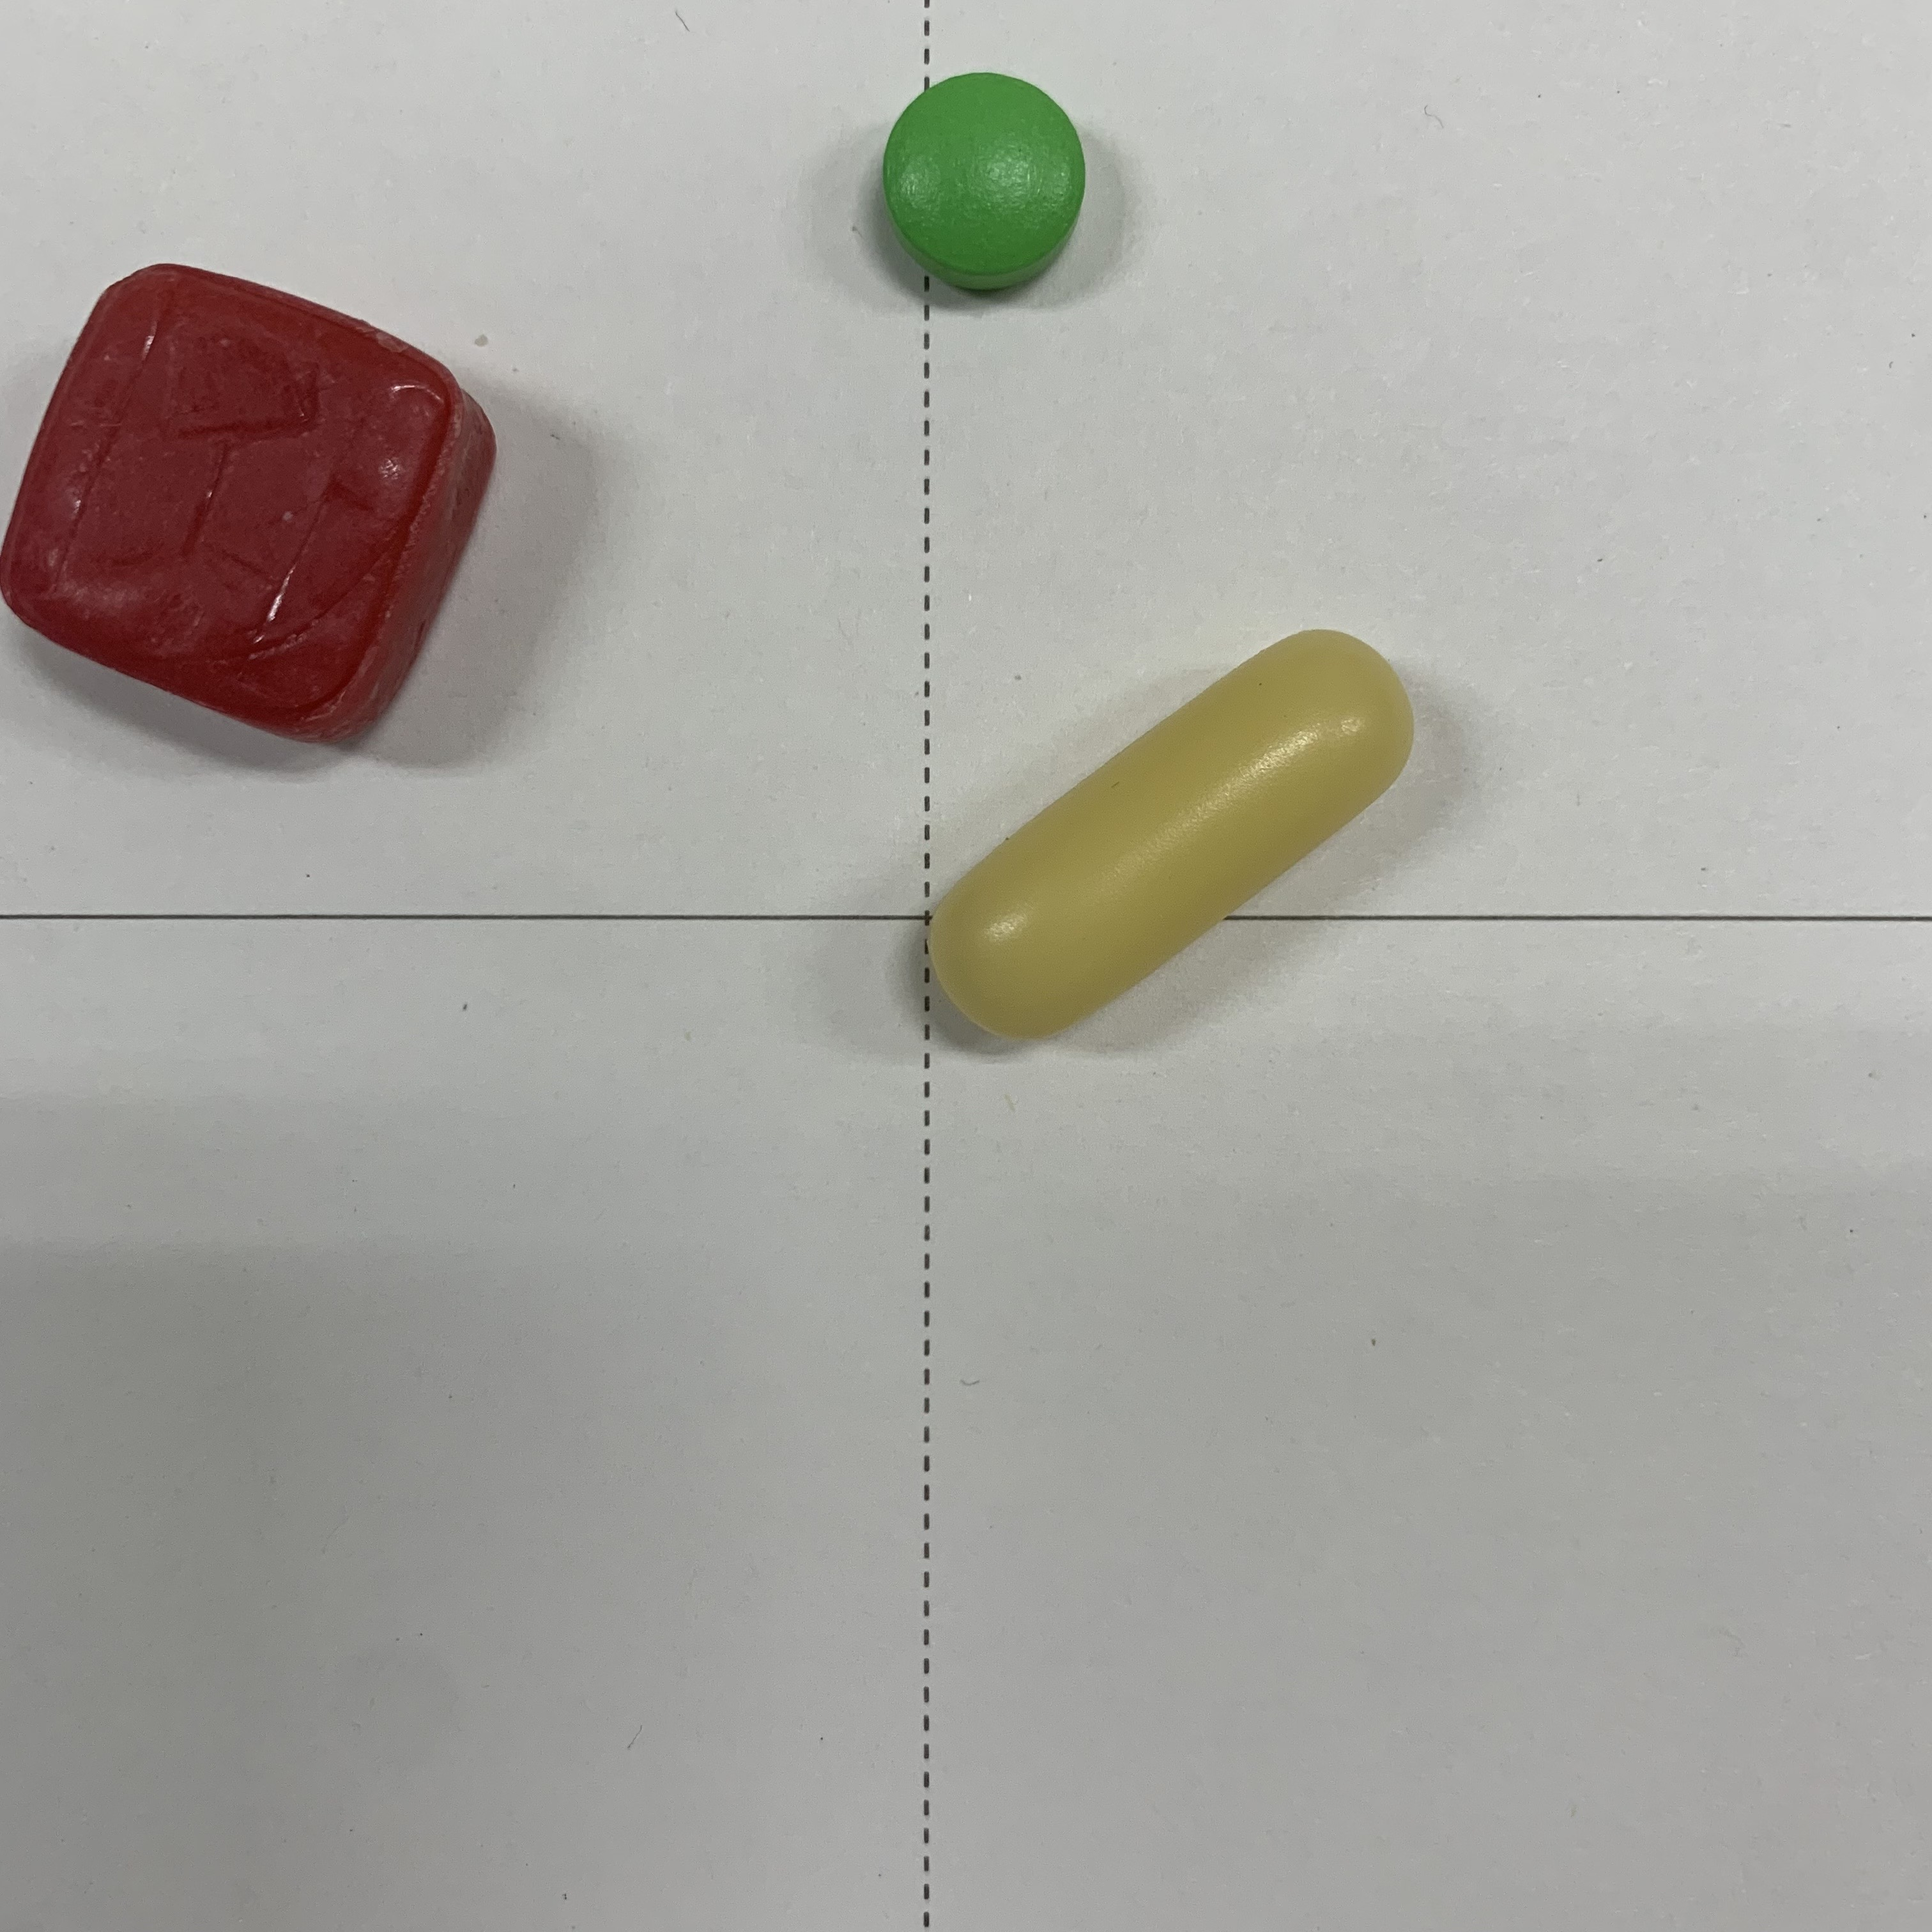cir_drug: (869, 55, 1106, 317)
rec_drug: (920, 587, 1424, 1109)
sqr_drug: (0, 234, 502, 809)
